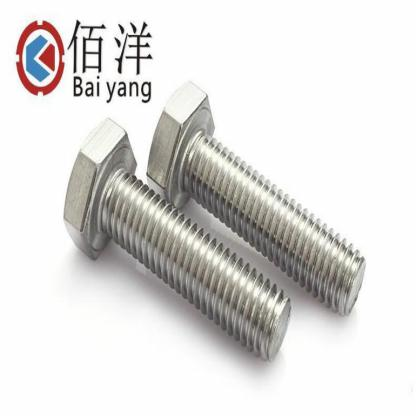FOD: (59, 113, 291, 369), (145, 73, 368, 321)
